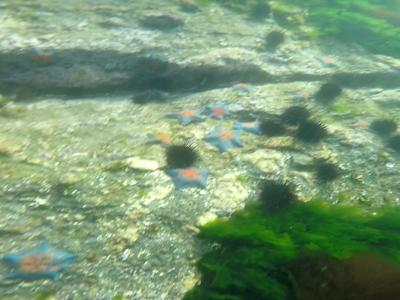urchin: (262, 179, 291, 213), (164, 144, 195, 168), (296, 123, 327, 146), (261, 119, 286, 136), (318, 160, 339, 179), (319, 83, 340, 101), (283, 107, 309, 121), (371, 118, 394, 133), (266, 31, 284, 48), (253, 4, 270, 21)
